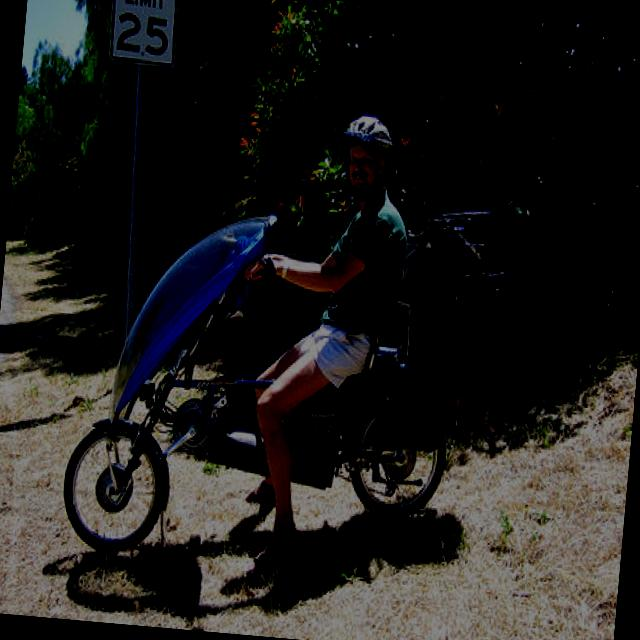Vehicle: (56, 198, 481, 582)
